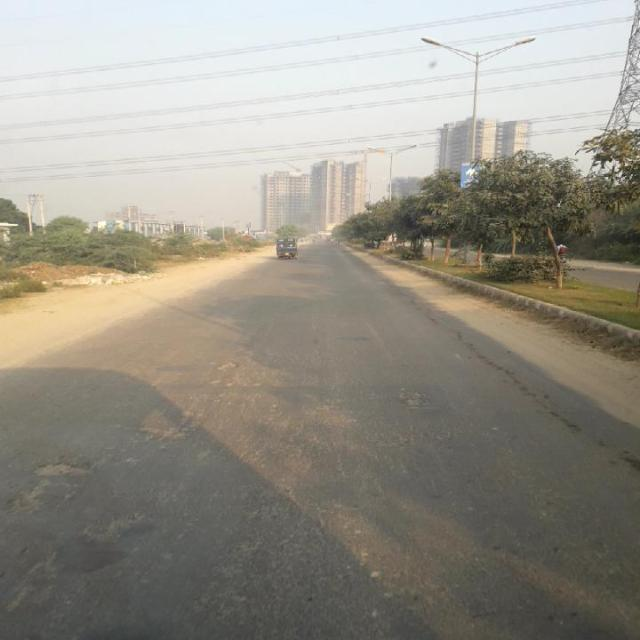D20: (206, 392, 412, 635)
D40: (14, 445, 104, 505), (140, 413, 194, 442), (84, 511, 138, 540), (210, 351, 242, 374)
